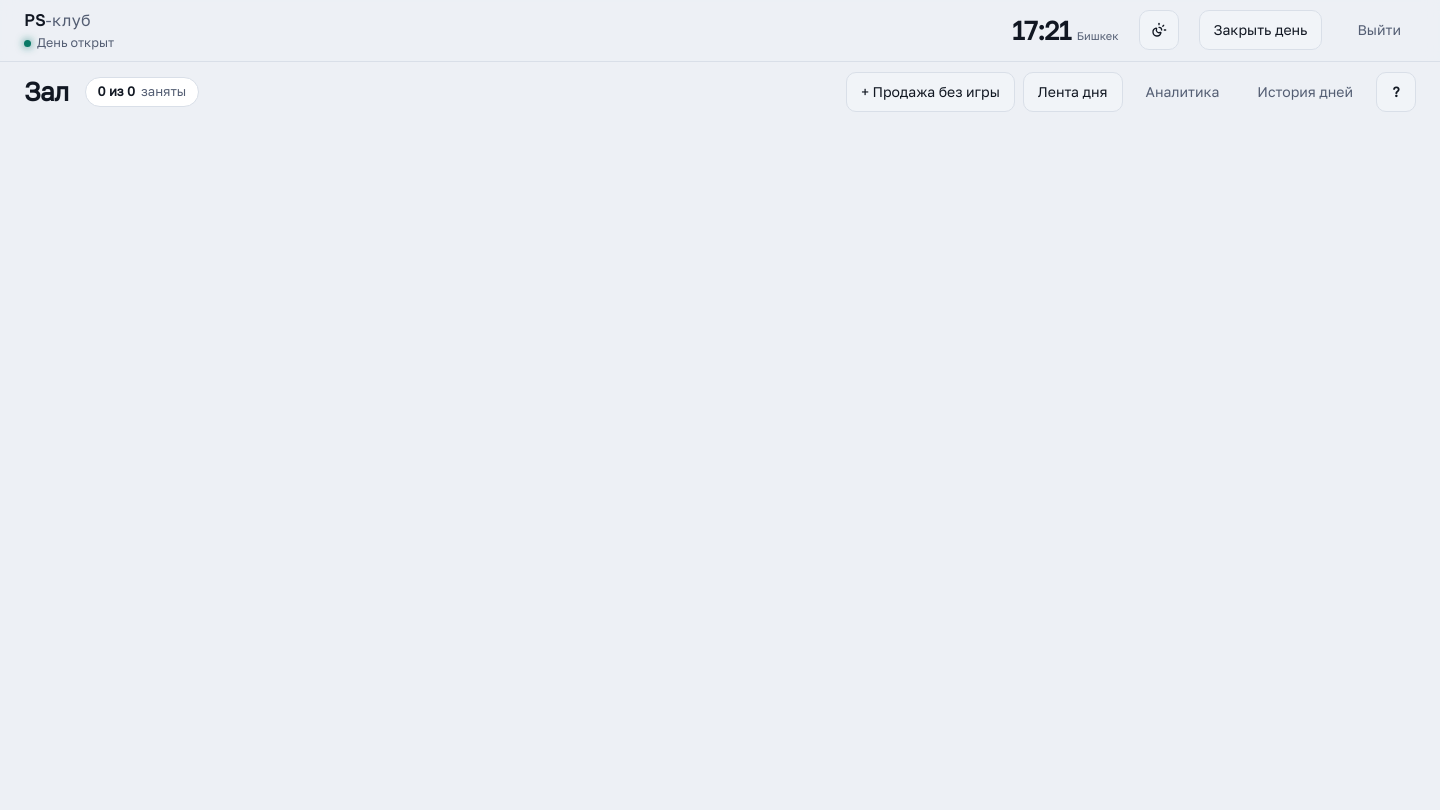
Test: HallPage › продажа без игры › opens a new ticket's bar dialog right after creating it
Click the button "+ Продажа без игры": (931, 92) x1=846 y1=72 x2=1015 y2=112
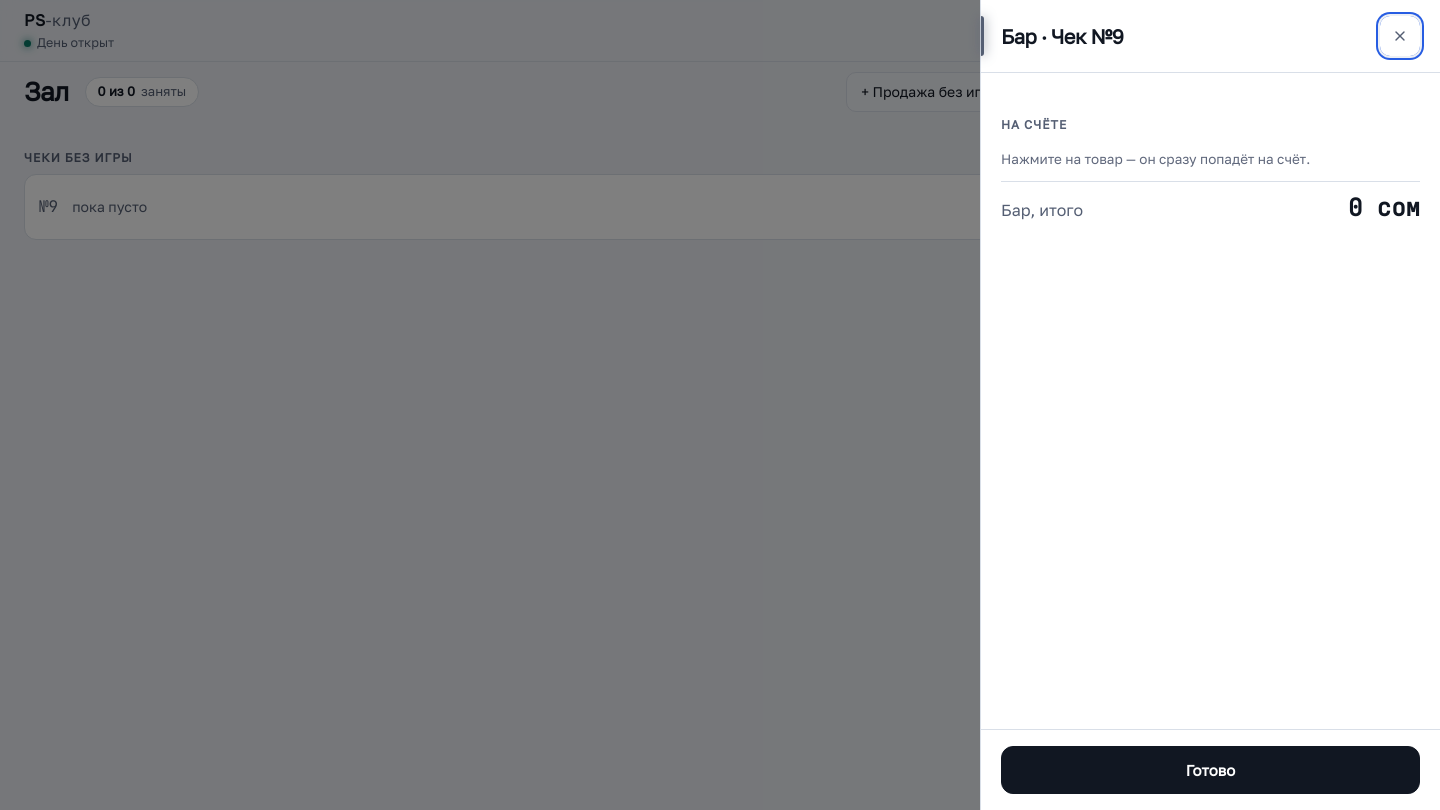
Expected: the dialog "Бар · Чек №" is shown, x1=980 y1=0 x2=1439 y2=809
